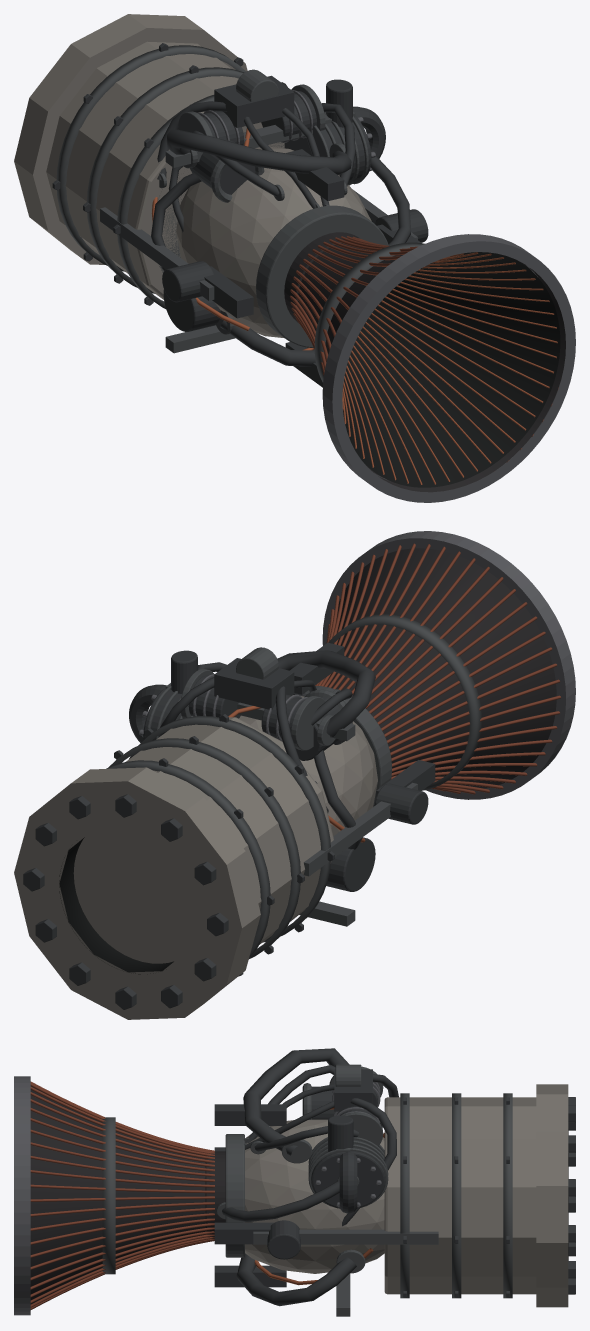
File: rocket_engine.glb
3 renders of one model, top to bottom at view 1: azimuth 30°, elevation 25°; view 2: azimuth 150°, elevation 25°; view 3: azimuth 270°, elevation 25°, orthographic. The views are drawn at different scales.
Visible parts, largest first — view 1: rocket_engine_engine, rocket_engine_soot, rocket_engine_gunmetal, rocket_engine_band, rocket_engine_lip, rocket_engine_copper, rocket_engine_throat, rocket_engine_tube; view 2: rocket_engine_engine, rocket_engine_throat, rocket_engine_gunmetal, rocket_engine_band, rocket_engine_tube, rocket_engine_lip, rocket_engine_soot; view 3: rocket_engine_engine, rocket_engine_gunmetal, rocket_engine_throat, rocket_engine_band, rocket_engine_tube, rocket_engine_lip, rocket_engine_copper.
Part boxes in pixels (x1,y1,x2,y2): rocket_engine_engine: (14,14,371,338); rocket_engine_soot: (343,252,560,487); rocket_engine_gunmetal: (52,43,428,387); rocket_engine_band: (56,45,424,382); rocket_engine_lip: (197,90,575,502); rocket_engine_copper: (151,128,557,484); rocket_engine_throat: (284,232,565,492); rocket_engine_tube: (290,236,558,462); rocket_engine_engine: (14,695,377,1019); rocket_engine_throat: (327,548,556,789); rocket_engine_gunmetal: (23,642,435,1009); rocket_engine_band: (106,614,481,959); rocket_engine_tube: (315,543,561,794); rocket_engine_lip: (139,531,575,799); rocket_engine_soot: (59,837,173,974); rocket_engine_engine: (245,1084,568,1307); rocket_engine_gunmetal: (214,1048,575,1306); rocket_engine_throat: (30,1086,225,1304); rocket_engine_band: (102,1064,512,1316); rocket_engine_tube: (30,1081,214,1309); rocket_engine_lip: (14,1076,381,1315); rocket_engine_copper: (254,1107,384,1285).
Size of the model in its own units: 0.9442 by 1.01 by 2.15.
